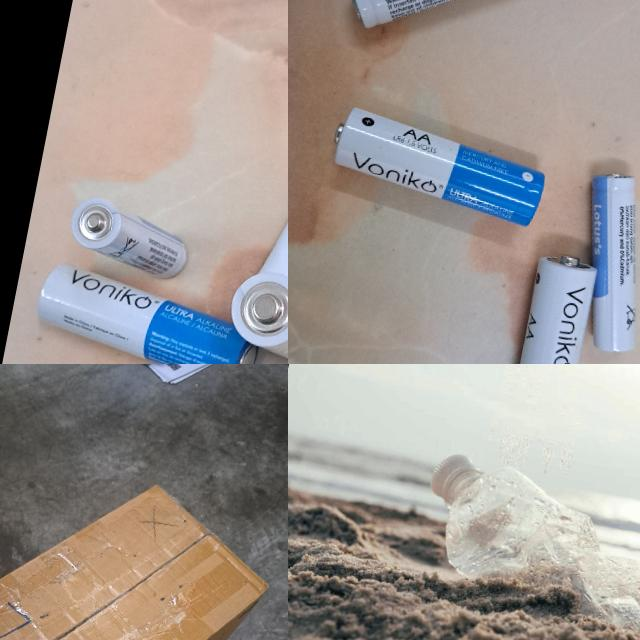bateria: (324, 103, 554, 232), (32, 259, 268, 364), (561, 164, 640, 354), (64, 195, 196, 285), (499, 249, 600, 364), (346, 0, 542, 58), (220, 266, 288, 364), (254, 109, 288, 296)
garrafa plástica: (430, 457, 640, 640)
papelão: (0, 446, 282, 640)
tampa plástica: (428, 448, 487, 502)
